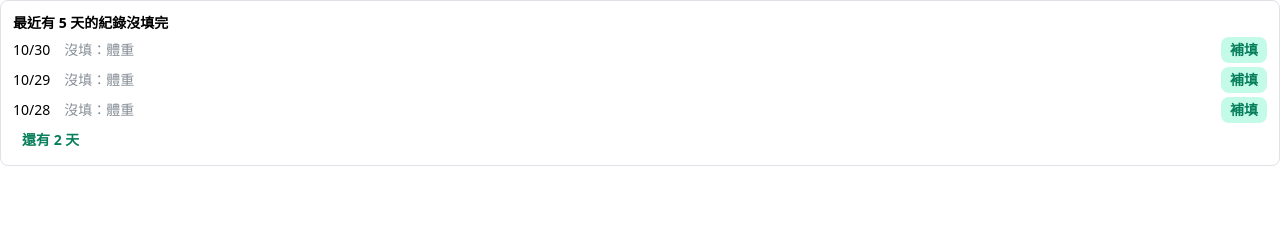
Scenario: MissingNotice › 漏填很多天時 › 預設只列最近 3 天，標題仍是總天數，可展開與收合
Expected: the number of list items is 3, [13,37,1267,63]; [13,67,1267,93]; [13,97,1267,123]
Click the button "還有 2 天": (51, 140) [13,127,88,153]
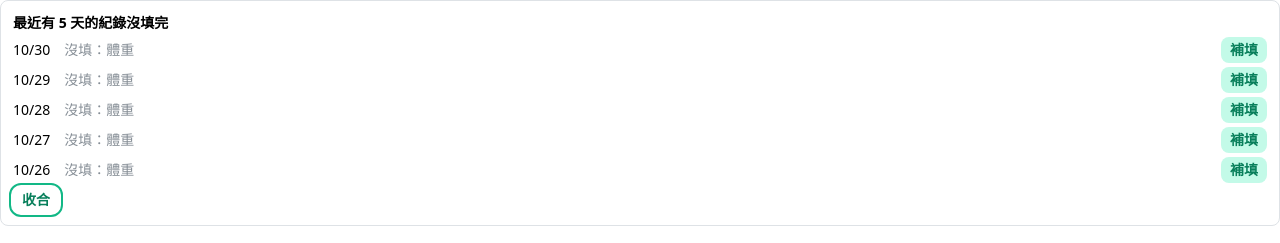
Result: the number of list items is 5 at [13,37,1267,63]; [13,67,1267,93]; [13,97,1267,123]; [13,127,1267,153]; [13,157,1267,183]
Result: the button with aria-label "補填 2026-10-26" is shown at [1221,157,1267,183]
Click the button "收合": (36, 200) [13,187,59,213]
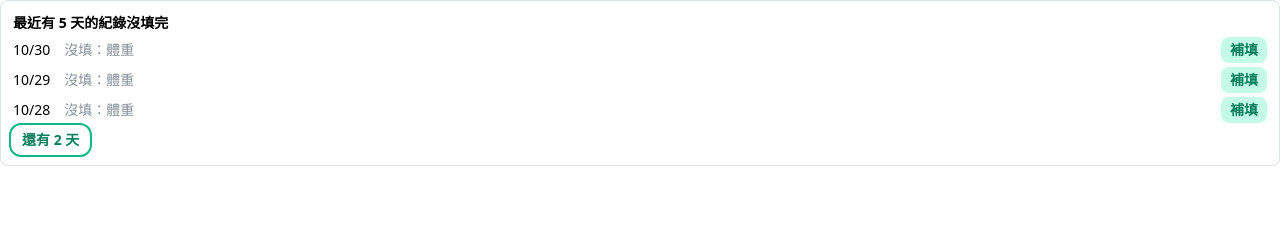
Result: the number of list items is 3 at [13,37,1267,63]; [13,67,1267,93]; [13,97,1267,123]
